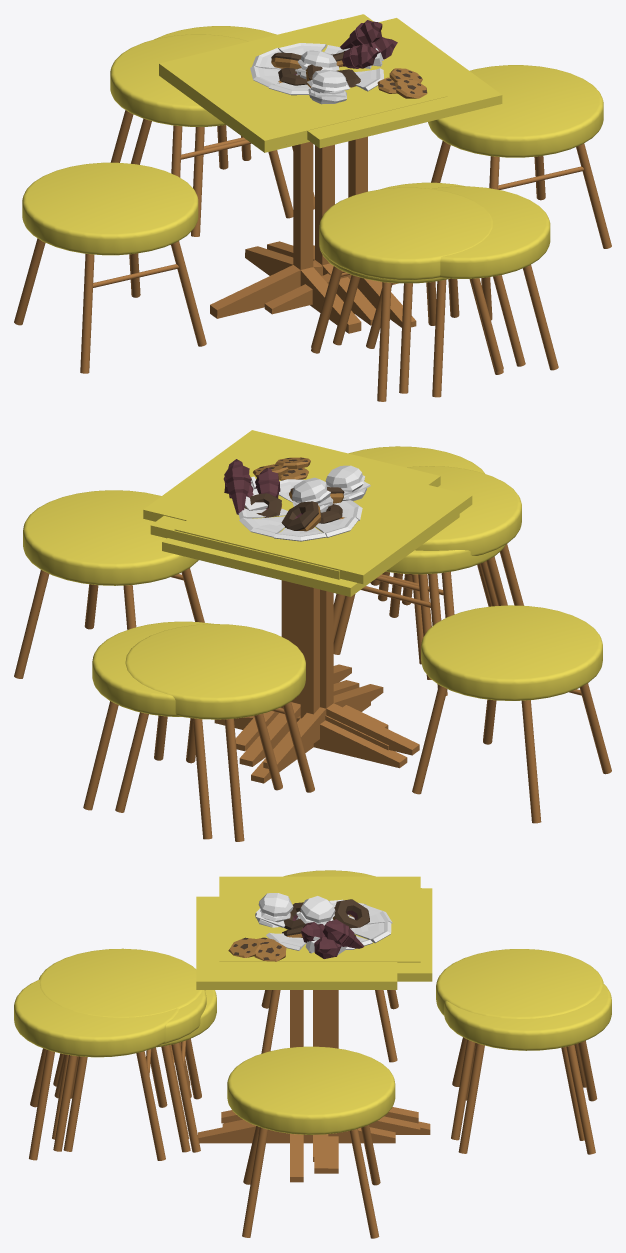
The model's file is obstacles.fbx.
The picture shows the model from 3 angles, top to bottom: view 1: azimuth 30°, elevation 25°; view 2: azimuth 150°, elevation 25°; view 3: azimuth 270°, elevation 25°; orthographic projection. The views are drawn at different scales.
Parts seen in each view (by area): view 1: Pizza, Ice cream, Collection 1, Donuts.001; view 2: Pizza, Ice cream, Donuts.001, Collection 1; view 3: Pizza, Ice cream, Collection 1, Donuts.001.
Boxes of the visible parts, x1,y1,x2,y2 form: Pizza: (110, 19, 503, 398); Ice cream: (131, 14, 611, 393); Collection 1: (264, 18, 558, 397); Donuts.001: (14, 51, 503, 401); Pizza: (115, 449, 523, 841); Ice cream: (14, 459, 498, 839); Donuts.001: (162, 488, 611, 823); Collection 1: (143, 430, 491, 751); Pizza: (38, 876, 603, 1161); Ice cream: (53, 888, 611, 1238); Collection 1: (14, 893, 397, 1182); Donuts.001: (63, 870, 432, 1173).
Bounding box in the file's own units: 286 × 127 × 284.
